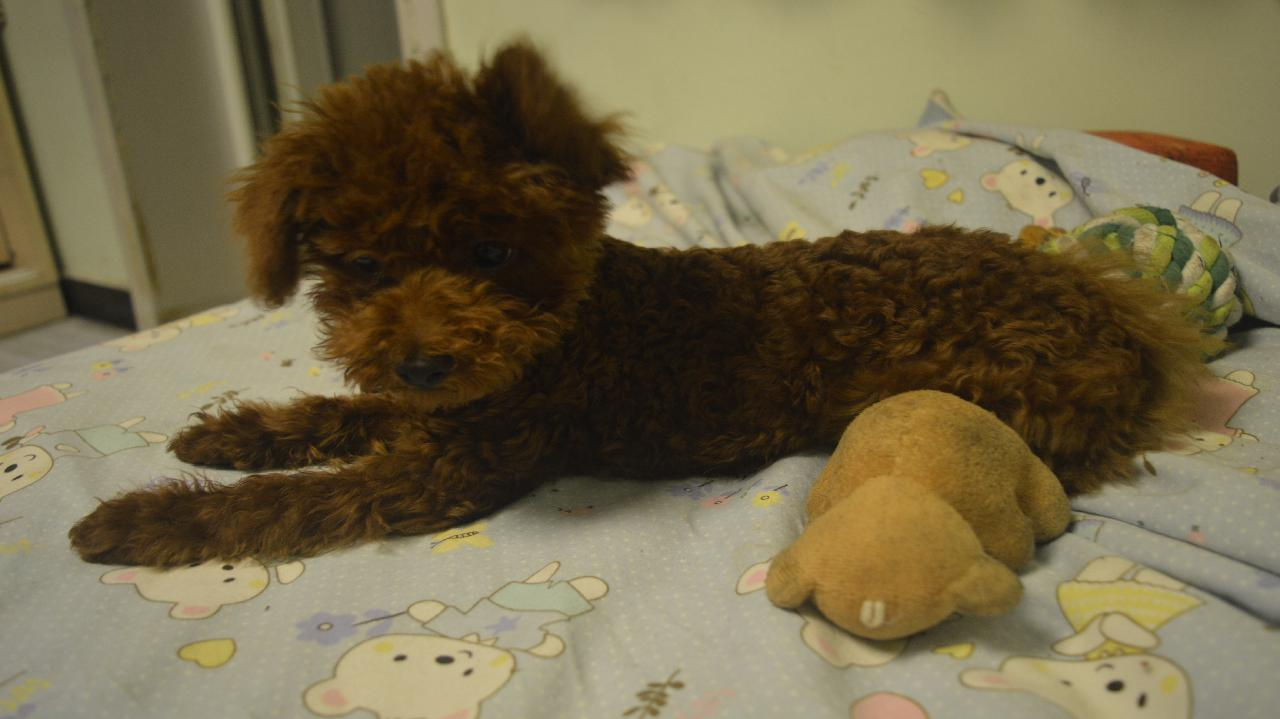coin: (152, 47, 1187, 555)
